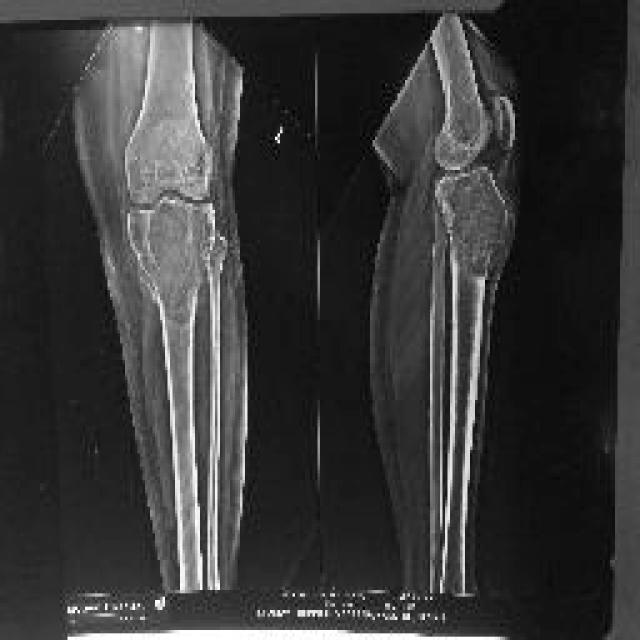bone-cancer: (128, 197, 216, 322), (435, 167, 511, 278)
